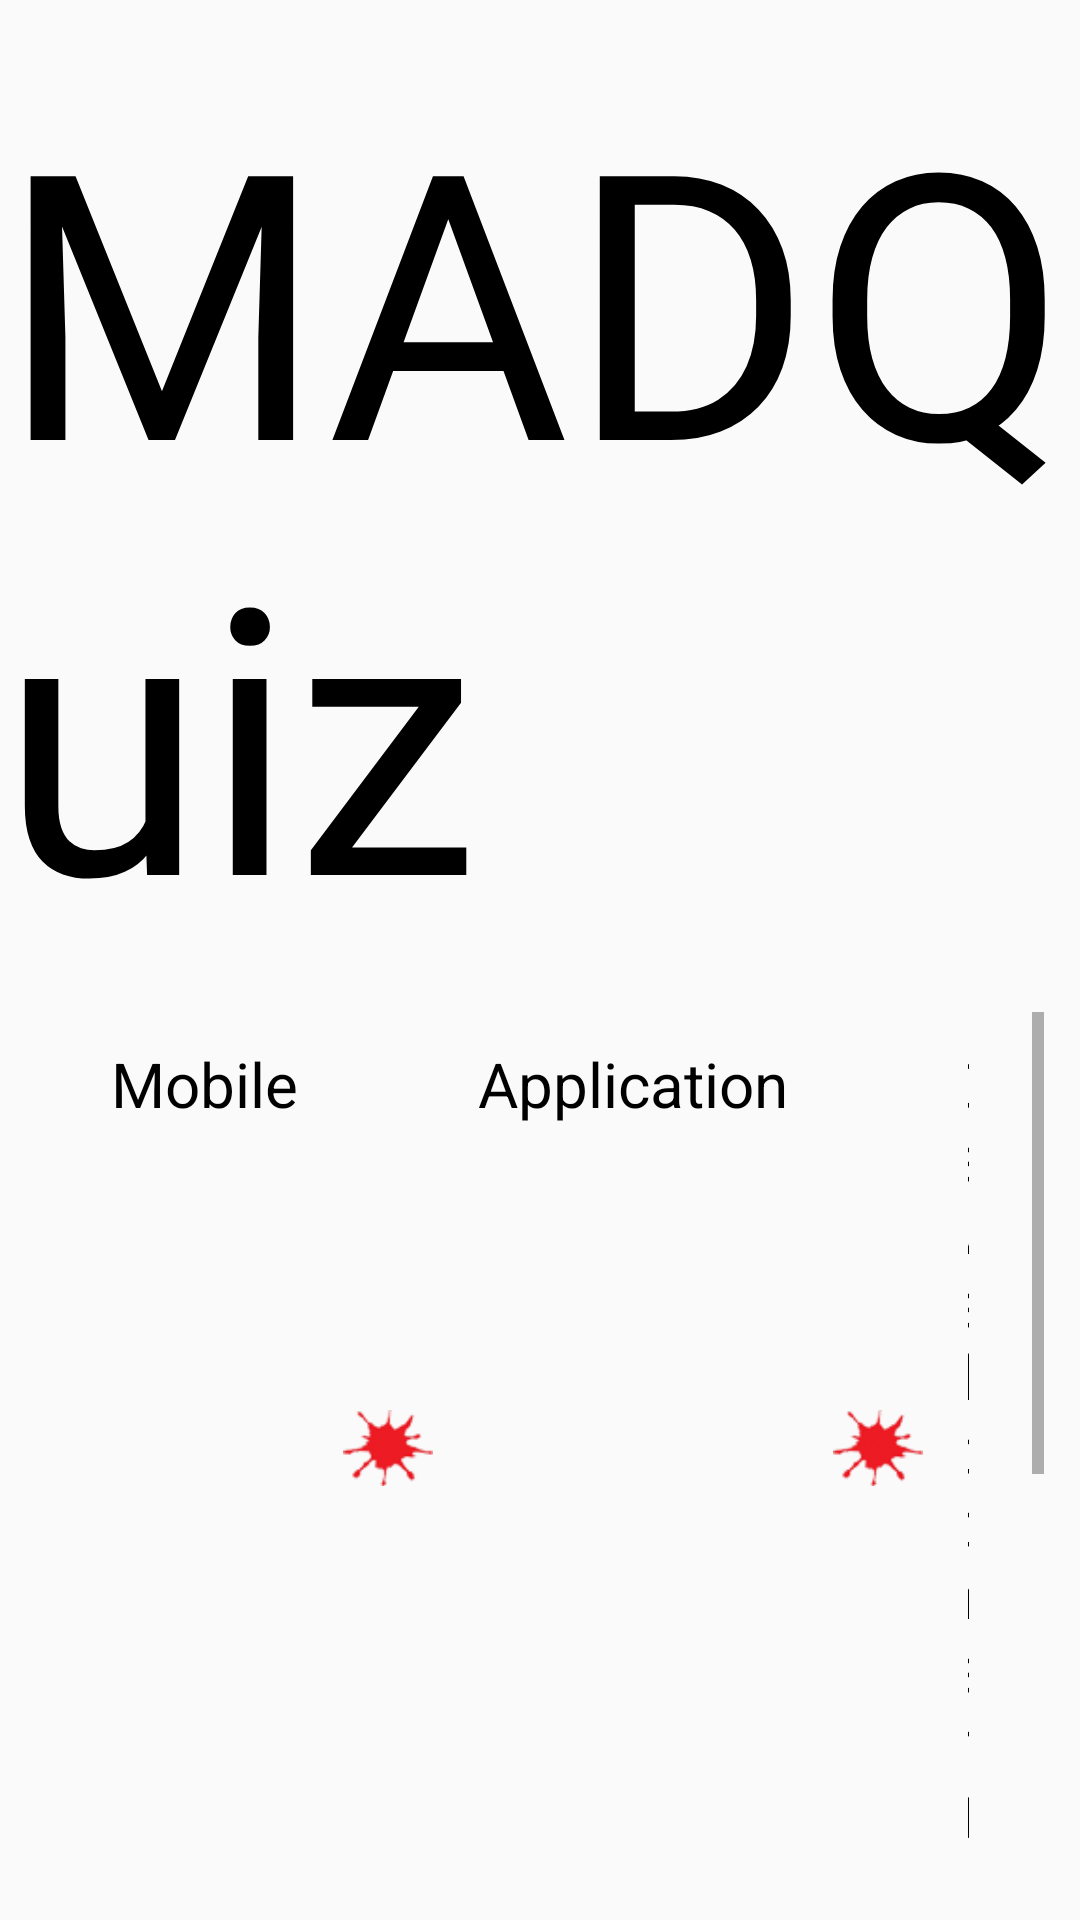

Point at icon controls on the screen. Image size 1080×1920, points as (x=x, y=y).
dot: (x=388, y=1448), (x=878, y=1448)
